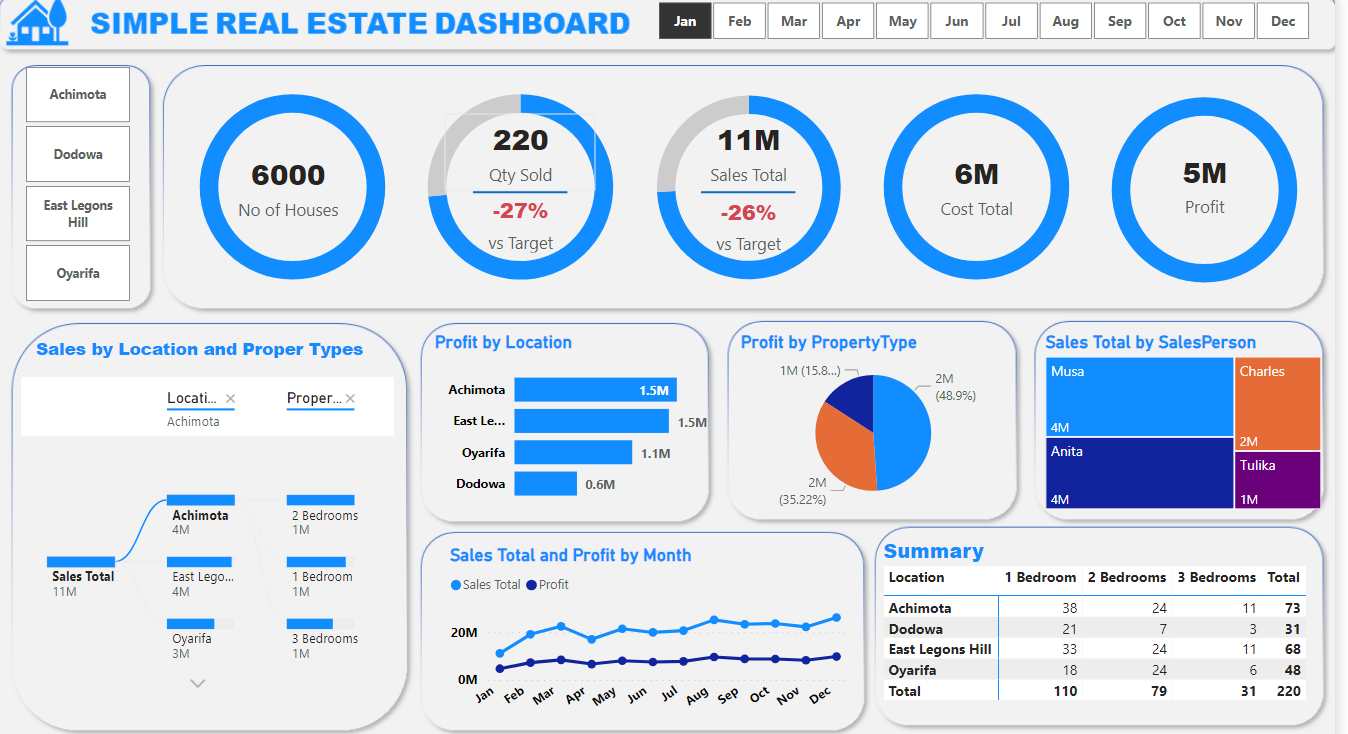

The page's visual inventory and layout, read from the dashboard file:
{"tool":"powerbi","page":{"name":"Page 1","canvas":[1280,720],"ordinal":0},"visuals":[{"type":"card","fields":{"Values":["All Measures.Qty Sold"]},"box":[427,113.6,145.4,72.7],"z":0,"group":"g1"},{"type":"slicer","fields":{"Values":["Location.Location"]},"box":[0,62.4,149.3,238.1],"z":0},{"type":"slicer","fields":{"Values":["Calendar.Month"]},"box":[606.6,0,672.8,49.1],"z":1000},{"type":"card","fields":{"Values":["All Measures.% of Qty to Target"]},"box":[454.3,184.8,90.9,66.6],"z":1000,"group":"g1"},{"type":"shape","box":[454.3,175.7,90.9,27.3],"z":2000,"group":"g1"},{"type":"donutChart","fields":{"Y":["All Measures.No of Houses"]},"box":[164.4,68,234.3,232.4],"z":2000},{"type":"card","fields":{"Values":["All Measures.No of Houses"]},"box":[204.1,113.4,145.5,139.8],"z":3000},{"type":"donutChart","fields":{"Y":["All Measures.Qty Sold","All Measures.Qty to Target"]},"box":[382.7,68,234.3,232.4],"z":4000},{"type":"donutChart","fields":{"Y":["All Measures.Sales Total","All Measures.Sales to Target"]},"box":[601.1,69.7,234.7,230.2],"z":5000},{"type":"donutChart","fields":{"Y":["All Measures.No of Houses"]},"box":[819.2,68,234.3,232.4],"z":6000},{"type":"donutChart","fields":{"Y":["All Measures.No of Houses"]},"box":[1037.5,69.9,234.3,232.4],"z":7000},{"type":"group","id":"g1","title":"Group 1","box":[427,113.6,145.4,137.8],"z":8000},{"type":"card","fields":{"Values":["All Measures.Sales Total"]},"box":[645.1,113.6,145.4,72.7],"z":9000},{"type":"card","fields":{"Values":["All Measures.% of Sales to Target"]},"box":[672.3,186.2,90.9,66.6],"z":10000},{"type":"shape","box":[672.3,175.6,90.9,27.3],"z":11000},{"type":"card","fields":{"Values":["All Measures.Cost Total"]},"box":[863.1,112.1,145.4,140.8],"z":12000},{"type":"card","fields":{"Values":["All Measures.Profit"]},"box":[1082.7,110.5,145.4,140.8],"z":13000},{"type":"decompositionTreeVisual","fields":{"Analyze":["All Measures.Sales Total"],"ExplainBy":["Location.Location","PropertyType.PropertyType"]},"box":[15.1,360.4,368,342.2],"z":14000},{"type":"clusteredBarChart","fields":{"Y":["All Measures.Profit"],"Category":["Location.Location"]},"box":[411.9,322.5,271,175.6],"z":15000},{"type":"pieChart","fields":{"Y":["All Measures.Profit"],"Category":["PropertyType.PropertyType"]},"box":[705.6,322.5,263.5,175.6],"z":16000},{"type":"treemap","fields":{"Values":["All Measures.Sales Total"],"Group":["SalesPerson.SalesPerson"]},"box":[997.9,322.5,274.1,175.6],"z":17000},{"type":"lineChart","fields":{"Y":["All Measures.Sales Total","All Measures.Profit"],"Category":["Calendar.Month"]},"box":[427,525.4,392.2,177.2],"z":18000},{"type":"pivotTable","fields":{"Rows":["Location.Location"],"Columns":["PropertyType.PropertyType"],"Values":["All Measures.Qty Sold"]},"box":[841.9,542.1,424,160.5],"z":19000},{"type":"textbox","box":[841.9,513.3,177.2,40.9],"z":20000},{"type":"textbox","box":[30.3,322.5,336.2,37.9],"z":21000}]}

Visuals, with their boxes on the page's 1280x720 design canvas (x1, y1, x2, y2). These are canvas units, not pixel positions in the 1348x734 screenshot, which may show the page scaled, cropped or inside an application window:
card - All Measures.Qty Sold: left=427, top=114, right=572, bottom=186
slicer - Location.Location: left=0, top=62, right=149, bottom=300
slicer - Calendar.Month: left=607, top=0, right=1279, bottom=49
card - All Measures.% of Qty to Target: left=454, top=185, right=545, bottom=251
shape: left=454, top=176, right=545, bottom=203
donutChart - All Measures.No of Houses: left=164, top=68, right=399, bottom=300
card - All Measures.No of Houses: left=204, top=113, right=350, bottom=253
donutChart - All Measures.Qty Sold x All Measures.Qty to Target: left=383, top=68, right=617, bottom=300
donutChart - All Measures.Sales Total x All Measures.Sales to Target: left=601, top=70, right=836, bottom=300
donutChart - All Measures.No of Houses: left=819, top=68, right=1054, bottom=300
donutChart - All Measures.No of Houses: left=1038, top=70, right=1272, bottom=302
"Group 1" group: left=427, top=114, right=572, bottom=251
card - All Measures.Sales Total: left=645, top=114, right=790, bottom=186
card - All Measures.% of Sales to Target: left=672, top=186, right=763, bottom=253
shape: left=672, top=176, right=763, bottom=203
card - All Measures.Cost Total: left=863, top=112, right=1008, bottom=253
card - All Measures.Profit: left=1083, top=110, right=1228, bottom=251
decompositionTreeVisual - All Measures.Sales Total x Location.Location: left=15, top=360, right=383, bottom=703
clusteredBarChart - All Measures.Profit x Location.Location: left=412, top=322, right=683, bottom=498
pieChart - All Measures.Profit x PropertyType.PropertyType: left=706, top=322, right=969, bottom=498
treemap - All Measures.Sales Total x SalesPerson.SalesPerson: left=998, top=322, right=1272, bottom=498
lineChart - All Measures.Sales Total x All Measures.Profit: left=427, top=525, right=819, bottom=703
pivotTable - Location.Location x PropertyType.PropertyType: left=842, top=542, right=1266, bottom=703
textbox: left=842, top=513, right=1019, bottom=554
textbox: left=30, top=322, right=366, bottom=360
